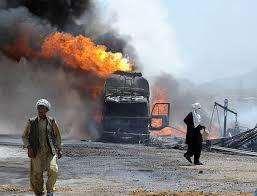fire: (26, 30, 132, 76), (147, 85, 174, 135)
